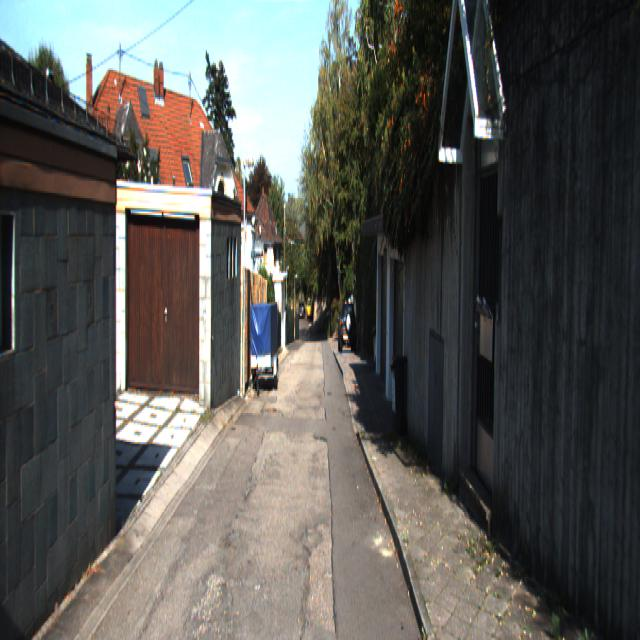Car: (250, 300, 278, 395), (337, 302, 357, 355)
